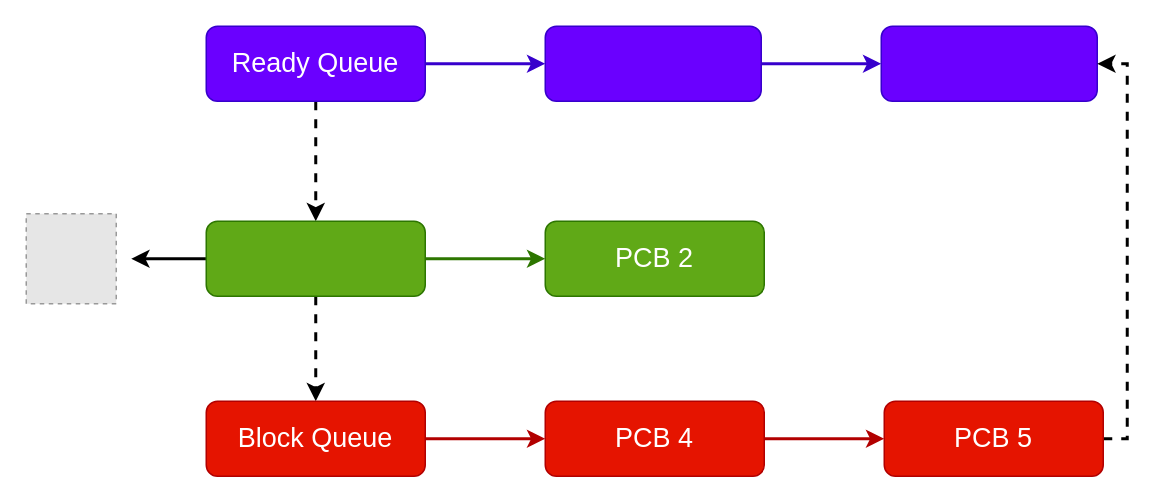
Image size: 1167x503. Some labels were removed from this diagram. Grey dashed boxes stand in for pictures. The shapes that lost their labels are listed below. From the top down, each one's centre as x and y in pixels, then its label:
the point at 652,63: PCB 1
the point at 988,63: PCB 3
the point at 315,258: Running Queue
